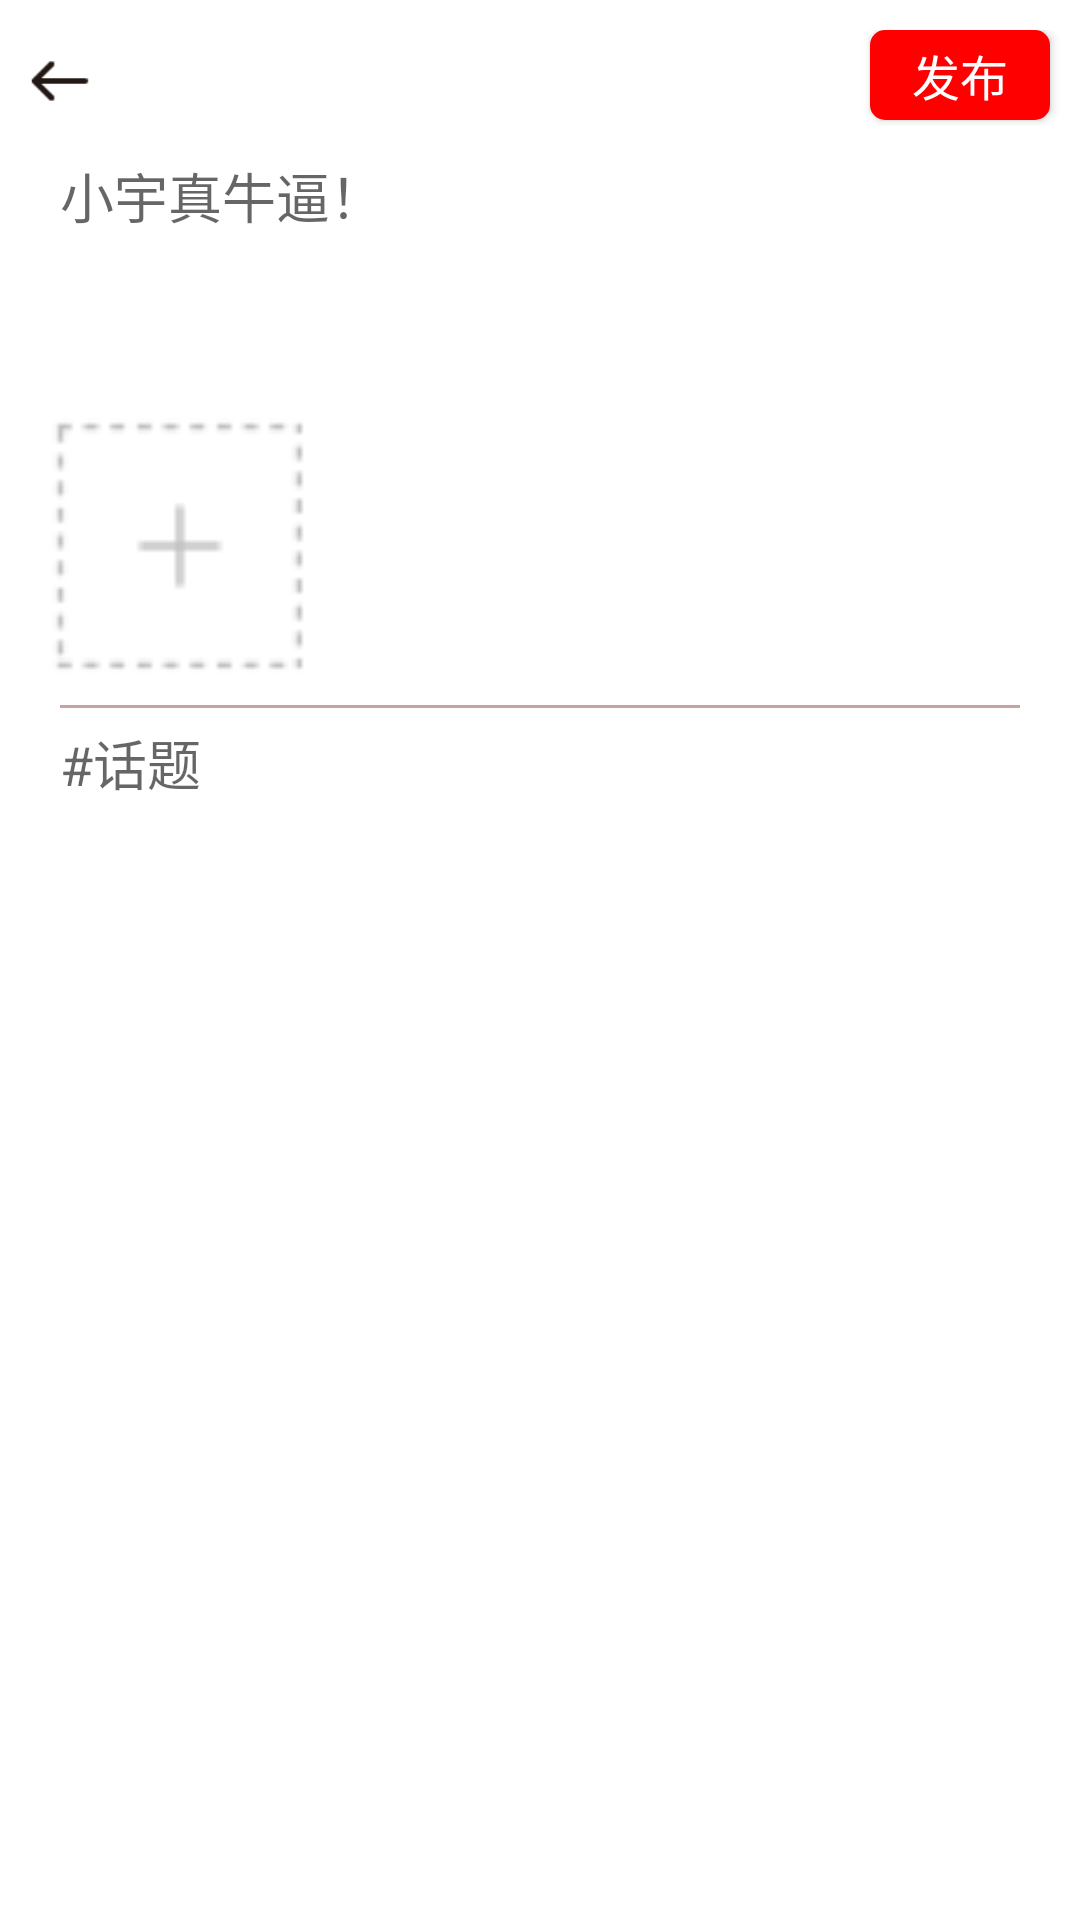

Named icons in this screenshot (1080 × 1920) and their centers, point (x, y):
arrow back: point (60, 81)
post picture add: point (179, 546)
